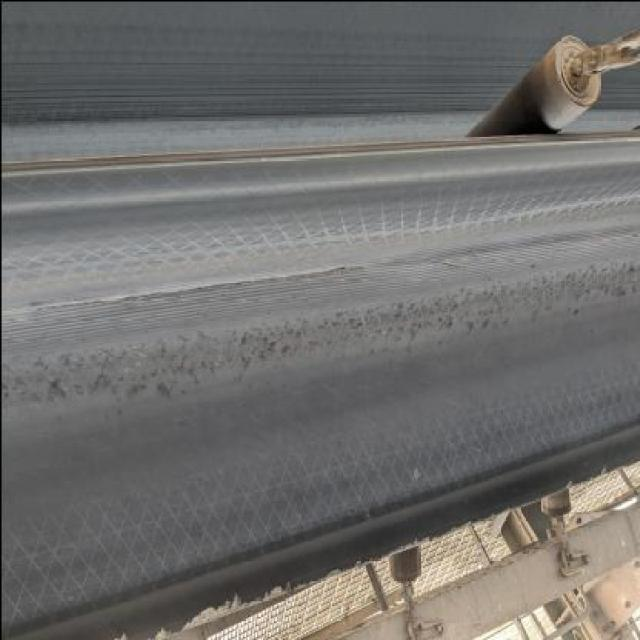Wear: (0, 217, 640, 368)
